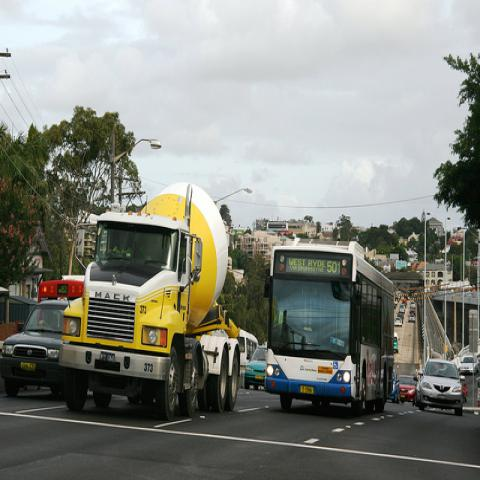bus: (264, 242, 394, 416), (238, 328, 260, 389)
car: (0, 298, 74, 396), (418, 359, 464, 416), (244, 344, 267, 392), (398, 374, 416, 407), (416, 365, 426, 406), (394, 331, 400, 353), (394, 316, 403, 327), (408, 314, 415, 323), (409, 308, 416, 317), (399, 304, 405, 314)
truck: (57, 182, 243, 420)
